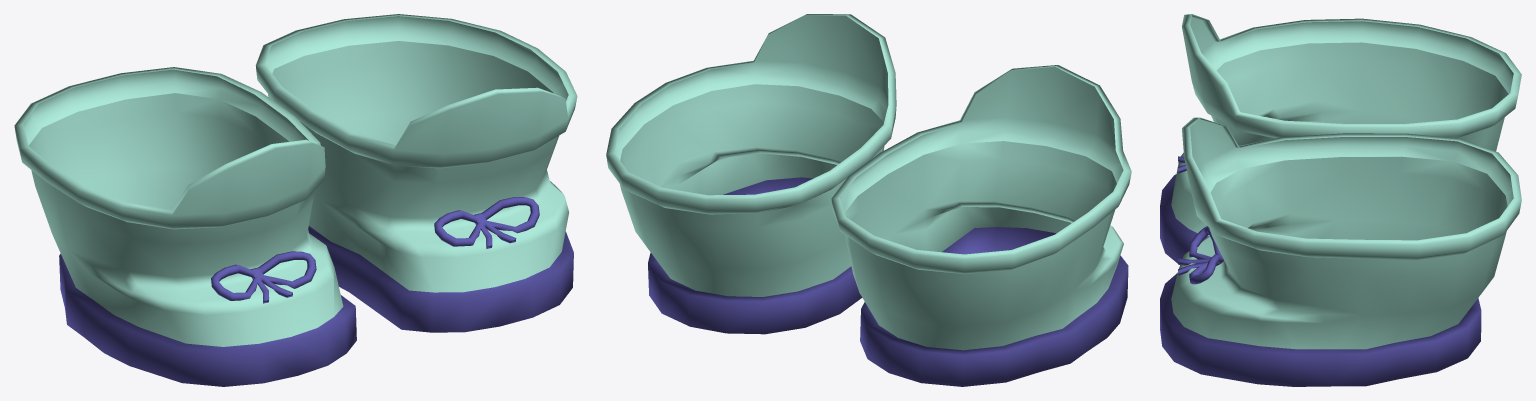
The model's file is Boots03_bow.fbx.
3 views of the same model, side by side, from view 1: azimuth 30°, elevation 25°; view 2: azimuth 150°, elevation 25°; view 3: azimuth 270°, elevation 25° (orthographic). The views are drawn at different scales.
Parts seen in each view (by area): view 1: Boots_bow; view 2: Boots_bow; view 3: Boots_bow.
Boxes of the visible parts, x1,y1,x2,y2 form: Boots_bow: [14, 14, 577, 386]; Boots_bow: [606, 14, 1131, 386]; Boots_bow: [1160, 14, 1521, 386].
Bounding box in the file's own units: 99.47 × 42.96 × 67.39.
